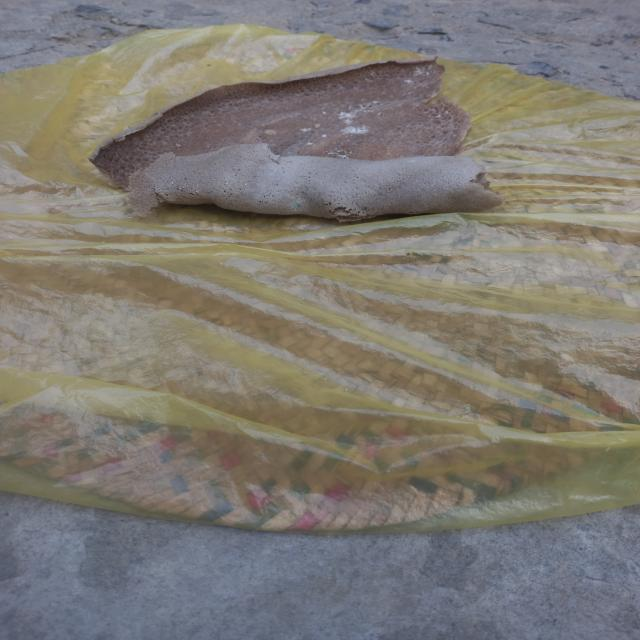injera_mold: (341, 125, 372, 134), (336, 108, 358, 120), (413, 66, 434, 76), (300, 126, 314, 133), (357, 105, 369, 112), (293, 202, 302, 210), (322, 150, 338, 154), (337, 155, 352, 159), (342, 150, 356, 154), (321, 110, 329, 116), (370, 100, 382, 104), (376, 111, 384, 117), (369, 70, 375, 78), (306, 141, 315, 146), (175, 142, 182, 148), (406, 78, 412, 85), (435, 113, 442, 119), (320, 134, 329, 138), (244, 182, 251, 187), (169, 181, 176, 186), (315, 122, 320, 129), (364, 77, 371, 81), (408, 159, 417, 162), (359, 98, 368, 101), (346, 138, 351, 143), (176, 192, 182, 196), (160, 192, 166, 196), (178, 186, 182, 191), (157, 188, 162, 192), (445, 110, 449, 115), (407, 90, 412, 94), (101, 143, 105, 148), (158, 179, 162, 182), (195, 185, 201, 187), (95, 151, 98, 155), (334, 146, 338, 149), (425, 86, 429, 89), (338, 150, 343, 152), (194, 190, 199, 192), (177, 199, 180, 201), (184, 186, 188, 187), (225, 182, 227, 184)
